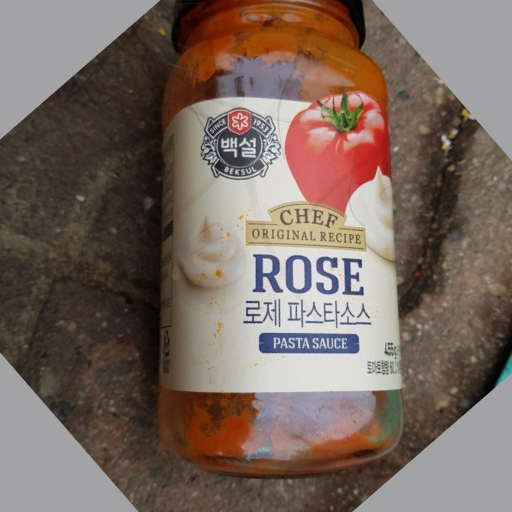Glass_5: (152, 1, 404, 481)
